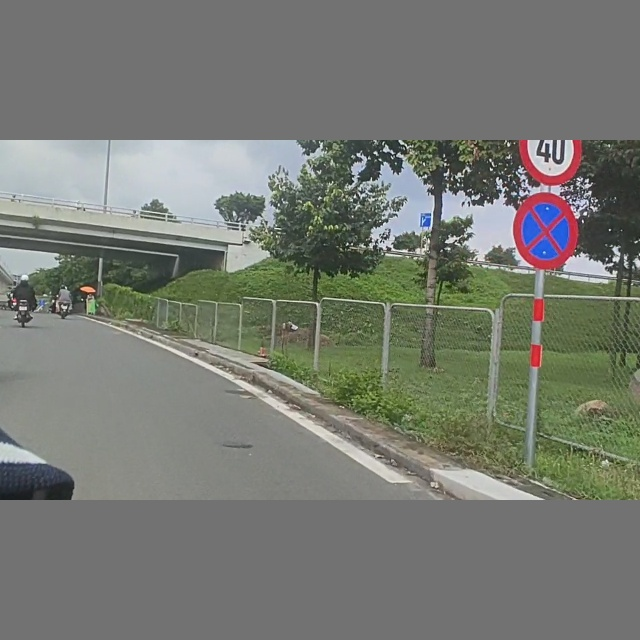P.127*40: (517, 141, 582, 185)
P.130: (514, 192, 579, 271)
